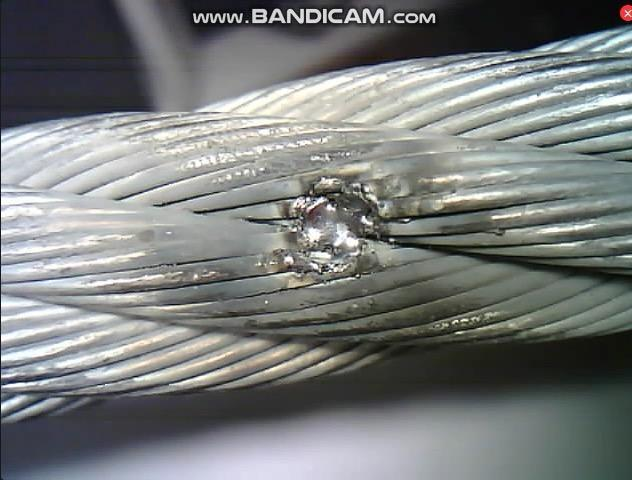thunderbolt: (224, 149, 431, 298)
